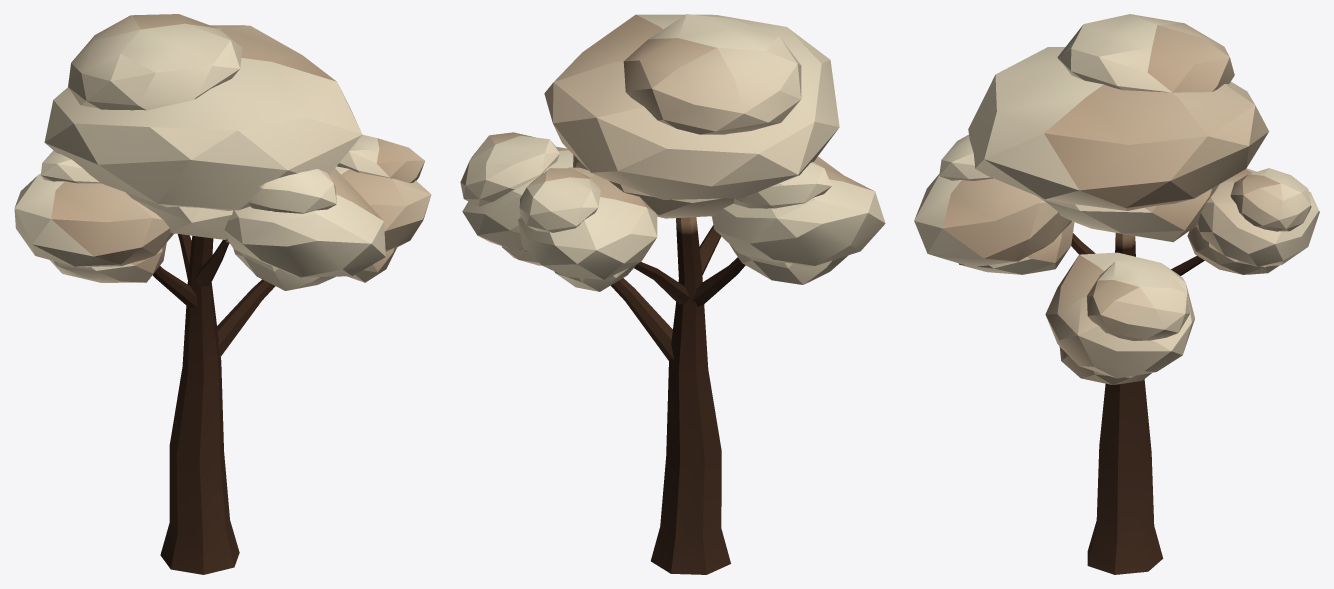
The model's file is tree_003.fbx.
The picture shows the model from 3 angles, left to right: view 1: azimuth 30°, elevation 25°; view 2: azimuth 150°, elevation 25°; view 3: azimuth 270°, elevation 25°; orthographic projection. The views are drawn at different scales.
Parts seen in each view (by area): view 1: tree.003; view 2: tree.003; view 3: tree.003.
Boxes of the visible parts, x1=… form: tree.003: x1=14, y1=14, x2=431, y2=574; tree.003: x1=460, y1=14, x2=885, y2=574; tree.003: x1=914, y1=14, x2=1319, y2=574.
Bounding box in the file's own units: 986 × 1258 × 901.
